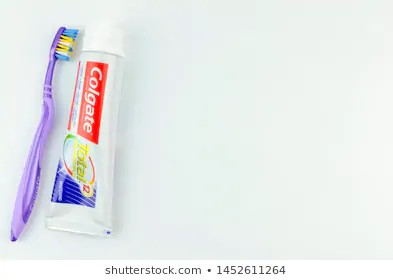colgate-total-150gm: (46, 15, 131, 243)
toothbrush: (1, 16, 77, 242)
